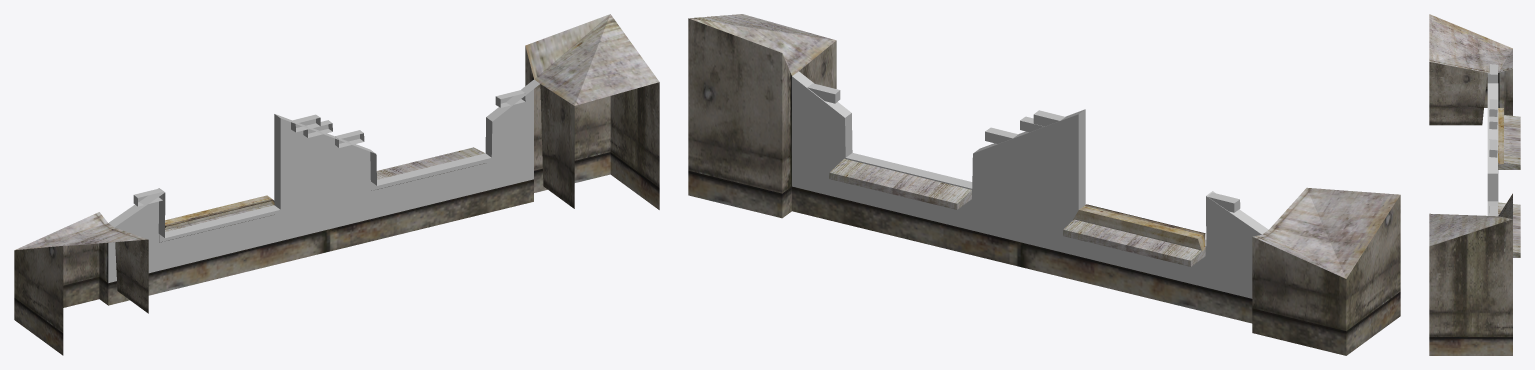
Rendered from Store_front_3_F.fbx.
The picture shows the model from 3 angles, left to right: view 1: azimuth 30°, elevation 25°; view 2: azimuth 150°, elevation 25°; view 3: azimuth 270°, elevation 25°; orthographic projection. The views are drawn at different scales.
Parts seen in each view (by area): view 1: Store_front_3_F; view 2: Store_front_3_F; view 3: Store_front_3_F.
Boxes of the visible parts, left/top/right/bottom form: Store_front_3_F: left=14, top=14, right=659, bottom=355; Store_front_3_F: left=688, top=14, right=1400, bottom=355; Store_front_3_F: left=1429, top=14, right=1520, bottom=355.
Bounding box in the file's own units: 700 × 180 × 109.
